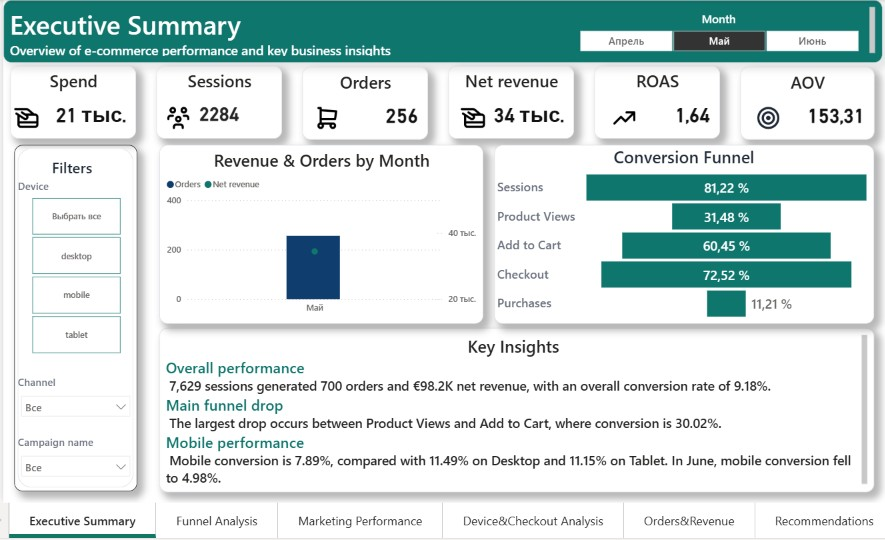

This screenshot's page, from the dashboard's own definition file:
{"tool":"powerbi","page":{"name":"Executive Summary","canvas":[1280,720],"ordinal":0},"visuals":[{"type":"textbox","box":[0,0,1259,90],"z":0},{"type":"slicer","title":"Month","fields":{"Values":["dim_calendar.Month"]},"box":[800,16,448,64],"z":1000},{"type":"shape","box":[16,208,176,496],"z":1000,"group":"g1"},{"type":"cardVisual","title":"Spend","fields":{"Data":["_Measure.Marketing Spend"]},"box":[10,95,180,104],"z":2000},{"type":"image","box":[227,144,48,48],"z":3000},{"type":"slicer","title":"Channel","fields":{"Values":["fact_sessions.channel"]},"box":[16,537,176,64],"z":3000,"group":"g1"},{"type":"card","title":"Sessions","fields":{"Values":["_Measure.0_Session_All"]},"box":[219.2,95,180,104],"z":4000},{"type":"slicer","title":"Device","fields":{"Values":["fact_sessions.device"]},"box":[16,256,176,256],"z":4000,"group":"g1"},{"type":"cardVisual","title":"ROAS","fields":{"Data":["_Measure.ROAS"]},"box":[846.8,95,180,104],"z":5000},{"type":"cardVisual","title":"AOV","fields":{"Data":["_Measure.AVG_order_value"]},"box":[1056,96,192,104],"z":6000},{"type":"slicer","title":"Campaign name","fields":{"Values":["dim_campaigns.campaign_name"]},"box":[16,624,176,64],"z":6000,"group":"g1"},{"type":"cardVisual","title":"Net revenue","fields":{"Data":["_Measure.Net revenue"]},"box":[637.6,95,180,104],"z":7000},{"type":"image","box":[440,144,48,48],"z":8000},{"type":"image","box":[640,144,64,48],"z":9000},{"type":"cardVisual","title":"Orders","fields":{"Data":["_Measure.Orders"]},"box":[428.4,96,180,104],"z":10000},{"type":"image","box":[865,144,48,48],"z":11000},{"type":"image","box":[1072,144,48,48],"z":12000},{"type":"image","box":[8,144,48,48],"z":13000},{"type":"group","id":"g1","title":"Группа 1","box":[16,208,176,496],"z":14000},{"type":"textbox","box":[224,470,1024,235],"z":15000},{"type":"lineStackedColumnComboChart","title":"Revenue & Orders by Month","fields":{"Category":["dim_calendar.Month"],"Y":["_Measure.Orders"],"Y2":["_Measure.Net revenue"]},"box":[224,208,464,256],"z":16000},{"type":"funnel","title":"Conversion Funnel","fields":{"Y":["_Measure.CR_0_session_prod_views","_Measure.CR_1_Prod_views_Add_to_card","_Measure.CR_2_Add_card_to_Checkout","_Measure.CR_3_Checkout_to_Purchase","_Measure.CR_4_Purchase_to_All_Sessions"]},"box":[704,208,544,256],"z":17000},{"type":"textbox","box":[64.8,219.7,96.7,43.3],"z":17000,"group":"g1"}]}

Visuals, with their boxes on the page's 1280x720 design canvas (x1, y1, x2, y2). These are canvas units, not pixel positions in the 885x540 screenshot, which may show the page scaled, cropped or inside an application window:
textbox: region(0, 0, 1259, 90)
"Month" slicer: region(800, 16, 1248, 80)
shape: region(16, 208, 192, 704)
"Spend" cardVisual: region(10, 95, 190, 199)
image: region(227, 144, 275, 192)
"Channel" slicer: region(16, 537, 192, 601)
"Sessions" card: region(219, 95, 399, 199)
"Device" slicer: region(16, 256, 192, 512)
"ROAS" cardVisual: region(847, 95, 1027, 199)
"AOV" cardVisual: region(1056, 96, 1248, 200)
"Campaign name" slicer: region(16, 624, 192, 688)
"Net revenue" cardVisual: region(638, 95, 818, 199)
image: region(440, 144, 488, 192)
image: region(640, 144, 704, 192)
"Orders" cardVisual: region(428, 96, 608, 200)
image: region(865, 144, 913, 192)
image: region(1072, 144, 1120, 192)
image: region(8, 144, 56, 192)
"Группа 1" group: region(16, 208, 192, 704)
textbox: region(224, 470, 1248, 705)
"Revenue & Orders by Month" lineStackedColumnComboChart: region(224, 208, 688, 464)
"Conversion Funnel" funnel: region(704, 208, 1248, 464)
textbox: region(65, 220, 162, 263)
